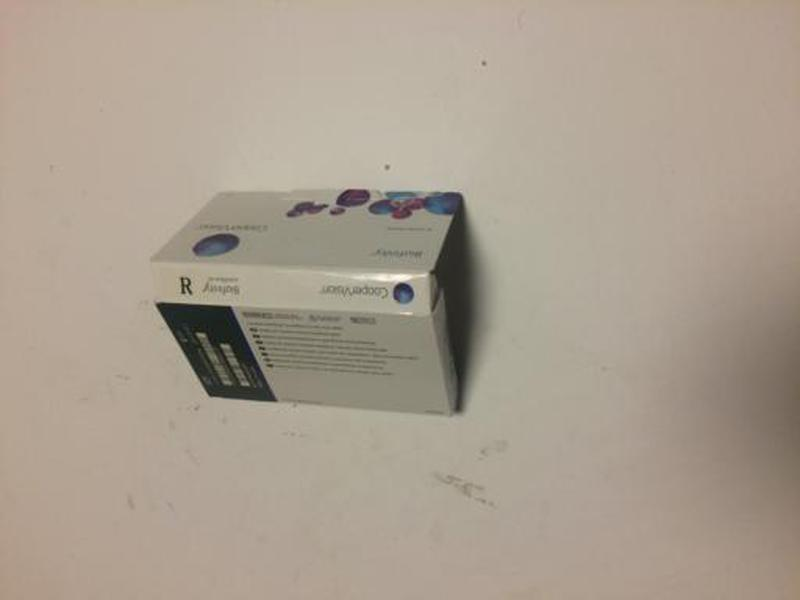cardboard: (146, 176, 488, 424)
